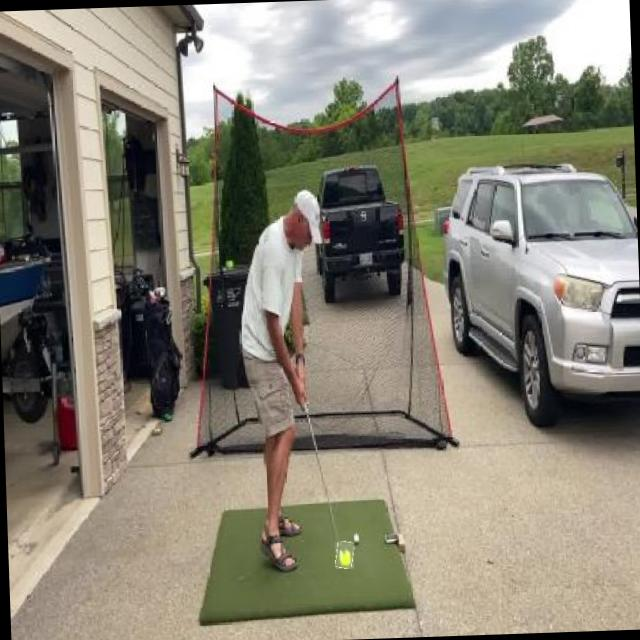club head: (334, 541, 354, 569)
